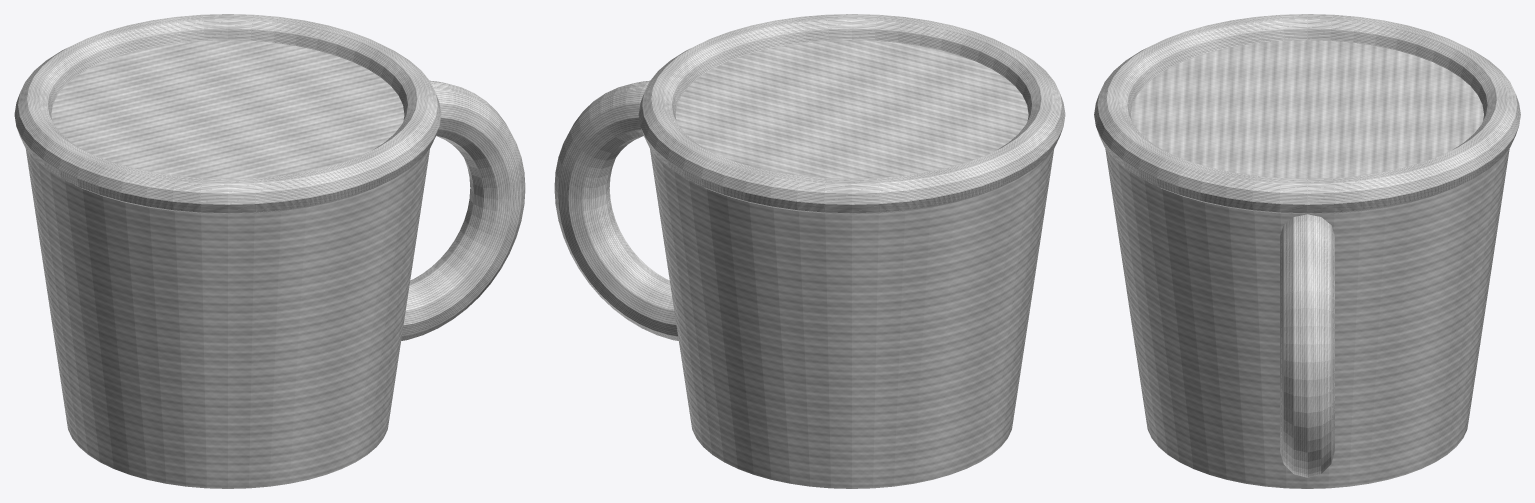
The model's file is cup_variant_a.glb.
The picture shows the model from 3 angles, left to right: view 1: azimuth 30°, elevation 25°; view 2: azimuth 150°, elevation 25°; view 3: azimuth 270°, elevation 25°; orthographic projection.
Visible parts, largest first — view 1: Cup body, Rolled rim, Cup handle; view 2: Cup body, Rolled rim, Cup handle; view 3: Cup body, Rolled rim, Cup handle.
Boxes of the visible parts, bbox=[...] form: Cup body: bbox=[25, 40, 429, 488]; Rolled rim: bbox=[14, 14, 441, 214]; Cup handle: bbox=[401, 80, 525, 340]; Cup body: bbox=[650, 40, 1054, 488]; Rolled rim: bbox=[638, 14, 1065, 214]; Cup handle: bbox=[554, 80, 678, 340]; Cup body: bbox=[1105, 40, 1509, 488]; Rolled rim: bbox=[1094, 14, 1520, 214]; Cup handle: bbox=[1280, 214, 1334, 477].
Size of what is drawn, in the model's own units: 0.36 by 0.2314 by 0.278.
Materials: 3 (3 with a texture image).
